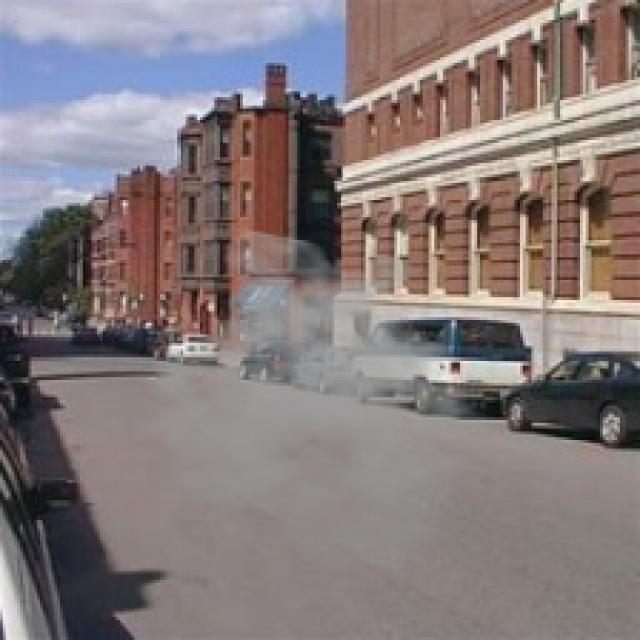Smoke: (128, 225, 514, 580)
